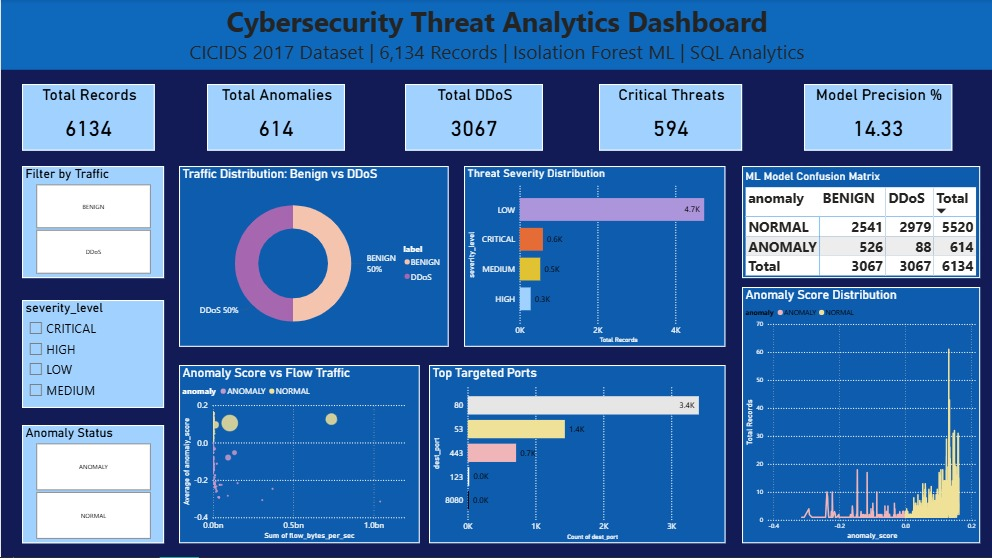

What the dashboard file says about the page in this screenshot:
{"tool":"powerbi","page":{"name":"Executive Overview","canvas":[1920,1080],"ordinal":0},"visuals":[{"type":"textbox","box":[0,0,1920,137.4],"z":0},{"type":"card","title":"Total Records","fields":{"Values":["master_cyber_data.Total Records"]},"box":[40.3,163.8,257,128.5],"z":1000},{"type":"card","title":"Total Anomalies","fields":{"Values":["master_cyber_data.Total Anomalies"]},"box":[398.1,163.8,267.1,128.5],"z":2000},{"type":"card","title":"Total DDoS","fields":{"Values":["master_cyber_data.Total DDoS"]},"box":[781.1,163.8,267.1,128.5],"z":3000},{"type":"card","title":"Critical Threats","fields":{"Values":["master_cyber_data.Critical Threats"]},"box":[1156.5,163.8,277.2,128.5],"z":4000},{"type":"card","title":"Model Precision %","fields":{"Values":["master_cyber_data.Model Accuracy %"]},"box":[1554.6,163.8,287.2,128.5],"z":5000},{"type":"donutChart","title":"Traffic Distribution: Benign vs DDoS","fields":{"Category":["master_cyber_data.label"],"Y":["master_cyber_data.Total Records"]},"box":[345.2,322.5,521.6,350.2],"z":6000},{"type":"barChart","title":"Threat Severity Distribution","fields":{"Category":["master_cyber_data.severity_level"],"Y":["master_cyber_data.Total Records"]},"box":[897,322.5,506.5,350.2],"z":7000},{"type":"scatterChart","title":"Anomaly Score vs Flow Traffic","fields":{"X":["Sum(master_cyber_data.flow_bytes_per_sec)"],"Y":["Avg(master_cyber_data.anomaly_score)"],"Category":["master_cyber_data.dest_port"],"Size":["CountNonNull(master_cyber_data.anomaly)"],"Series":["master_cyber_data.anomaly"]},"box":[345.2,708,466.1,345.2],"z":8000},{"type":"lineChart","title":"Anomaly Score Distribution","fields":{"Category":["master_cyber_data.anomaly_score"],"Y":["master_cyber_data.Total Records"],"Series":["master_cyber_data.anomaly"]},"box":[1433.7,556.9,461.1,496.4],"z":9000},{"type":"slicer","title":"Filter by Traffic","fields":{"Values":["master_cyber_data.label"]},"box":[40.3,322.5,274.6,216.7],"z":10000},{"type":"slicer","title":"severity_level","fields":{"Values":["master_cyber_data.severity_level"]},"box":[40.3,582,274.6,209.1],"z":11000},{"type":"slicer","title":"Anomaly Status","fields":{"Values":["master_cyber_data.anomaly"]},"box":[40.3,823.9,274.6,229.3],"z":12000},{"type":"pivotTable","title":"ML Model Confusion Matrix","fields":{"Columns":["master_cyber_data.label"],"Values":["master_cyber_data.Total Records"],"Rows":["master_cyber_data.anomaly"]},"box":[1433.7,322.5,461.1,216.7],"z":13000},{"type":"clusteredBarChart","title":" Top Targeted Ports","fields":{"Category":["master_cyber_data.dest_port"],"Y":["CountNonNull(master_cyber_data.dest_port)"]},"box":[829,708,574.5,345.2],"z":14000}]}

Visuals, with their boxes in screenshot pixels (x1, y1, x2, y2), scaled from the page's 1920x1080 canvas onto the 992x558 screenshot:
textbox: [x1=0, y1=0, x2=991, y2=71]
"Total Records" card: [x1=21, y1=85, x2=154, y2=151]
"Total Anomalies" card: [x1=206, y1=85, x2=344, y2=151]
"Total DDoS" card: [x1=404, y1=85, x2=542, y2=151]
"Critical Threats" card: [x1=598, y1=85, x2=741, y2=151]
"Model Precision %" card: [x1=803, y1=85, x2=952, y2=151]
"Traffic Distribution: Benign vs DDoS" donutChart: [x1=178, y1=167, x2=448, y2=348]
"Threat Severity Distribution" barChart: [x1=463, y1=167, x2=725, y2=348]
"Anomaly Score vs Flow Traffic" scatterChart: [x1=178, y1=366, x2=419, y2=544]
"Anomaly Score Distribution" lineChart: [x1=741, y1=288, x2=979, y2=544]
"Filter by Traffic" slicer: [x1=21, y1=167, x2=163, y2=279]
"severity_level" slicer: [x1=21, y1=301, x2=163, y2=409]
"Anomaly Status" slicer: [x1=21, y1=426, x2=163, y2=544]
"ML Model Confusion Matrix" pivotTable: [x1=741, y1=167, x2=979, y2=279]
" Top Targeted Ports" clusteredBarChart: [x1=428, y1=366, x2=725, y2=544]
